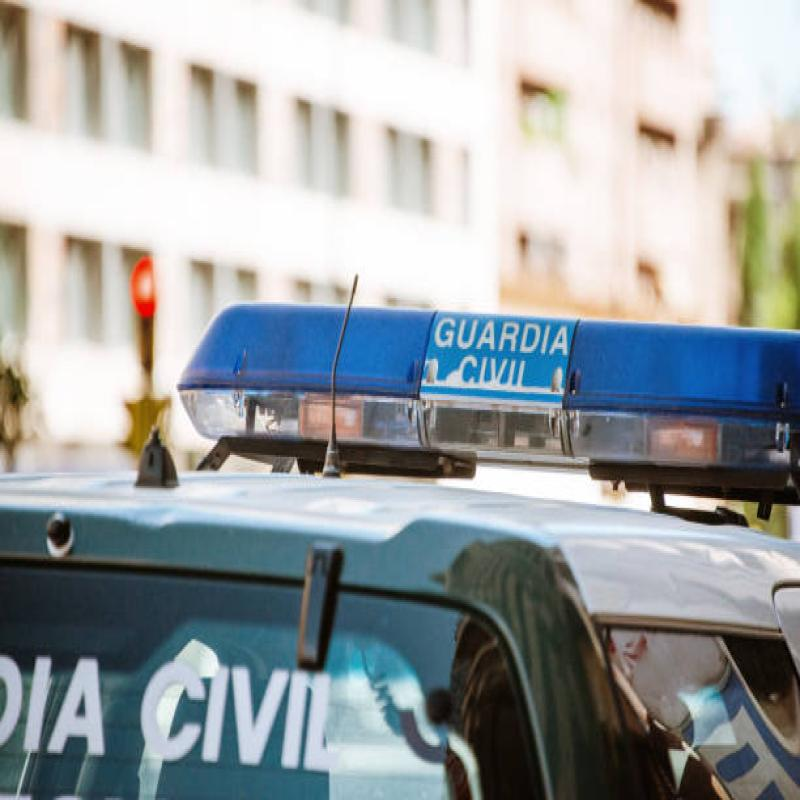AmbulanceSiren: (168, 267, 755, 485)
